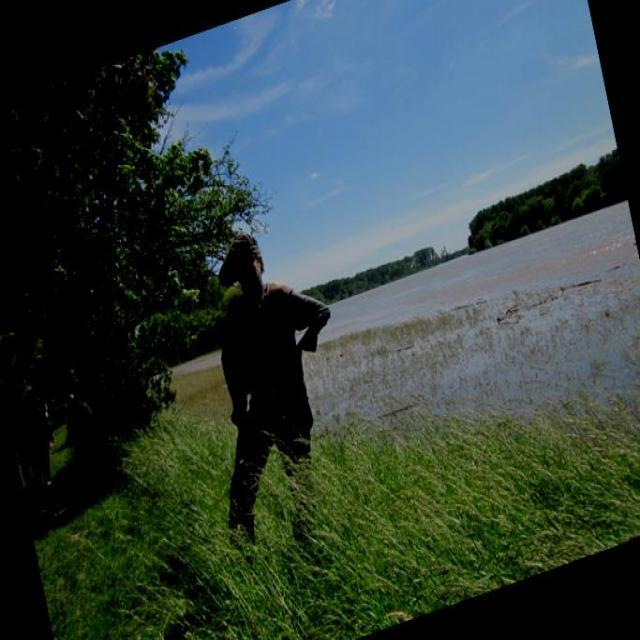flood: (294, 179, 639, 523)
